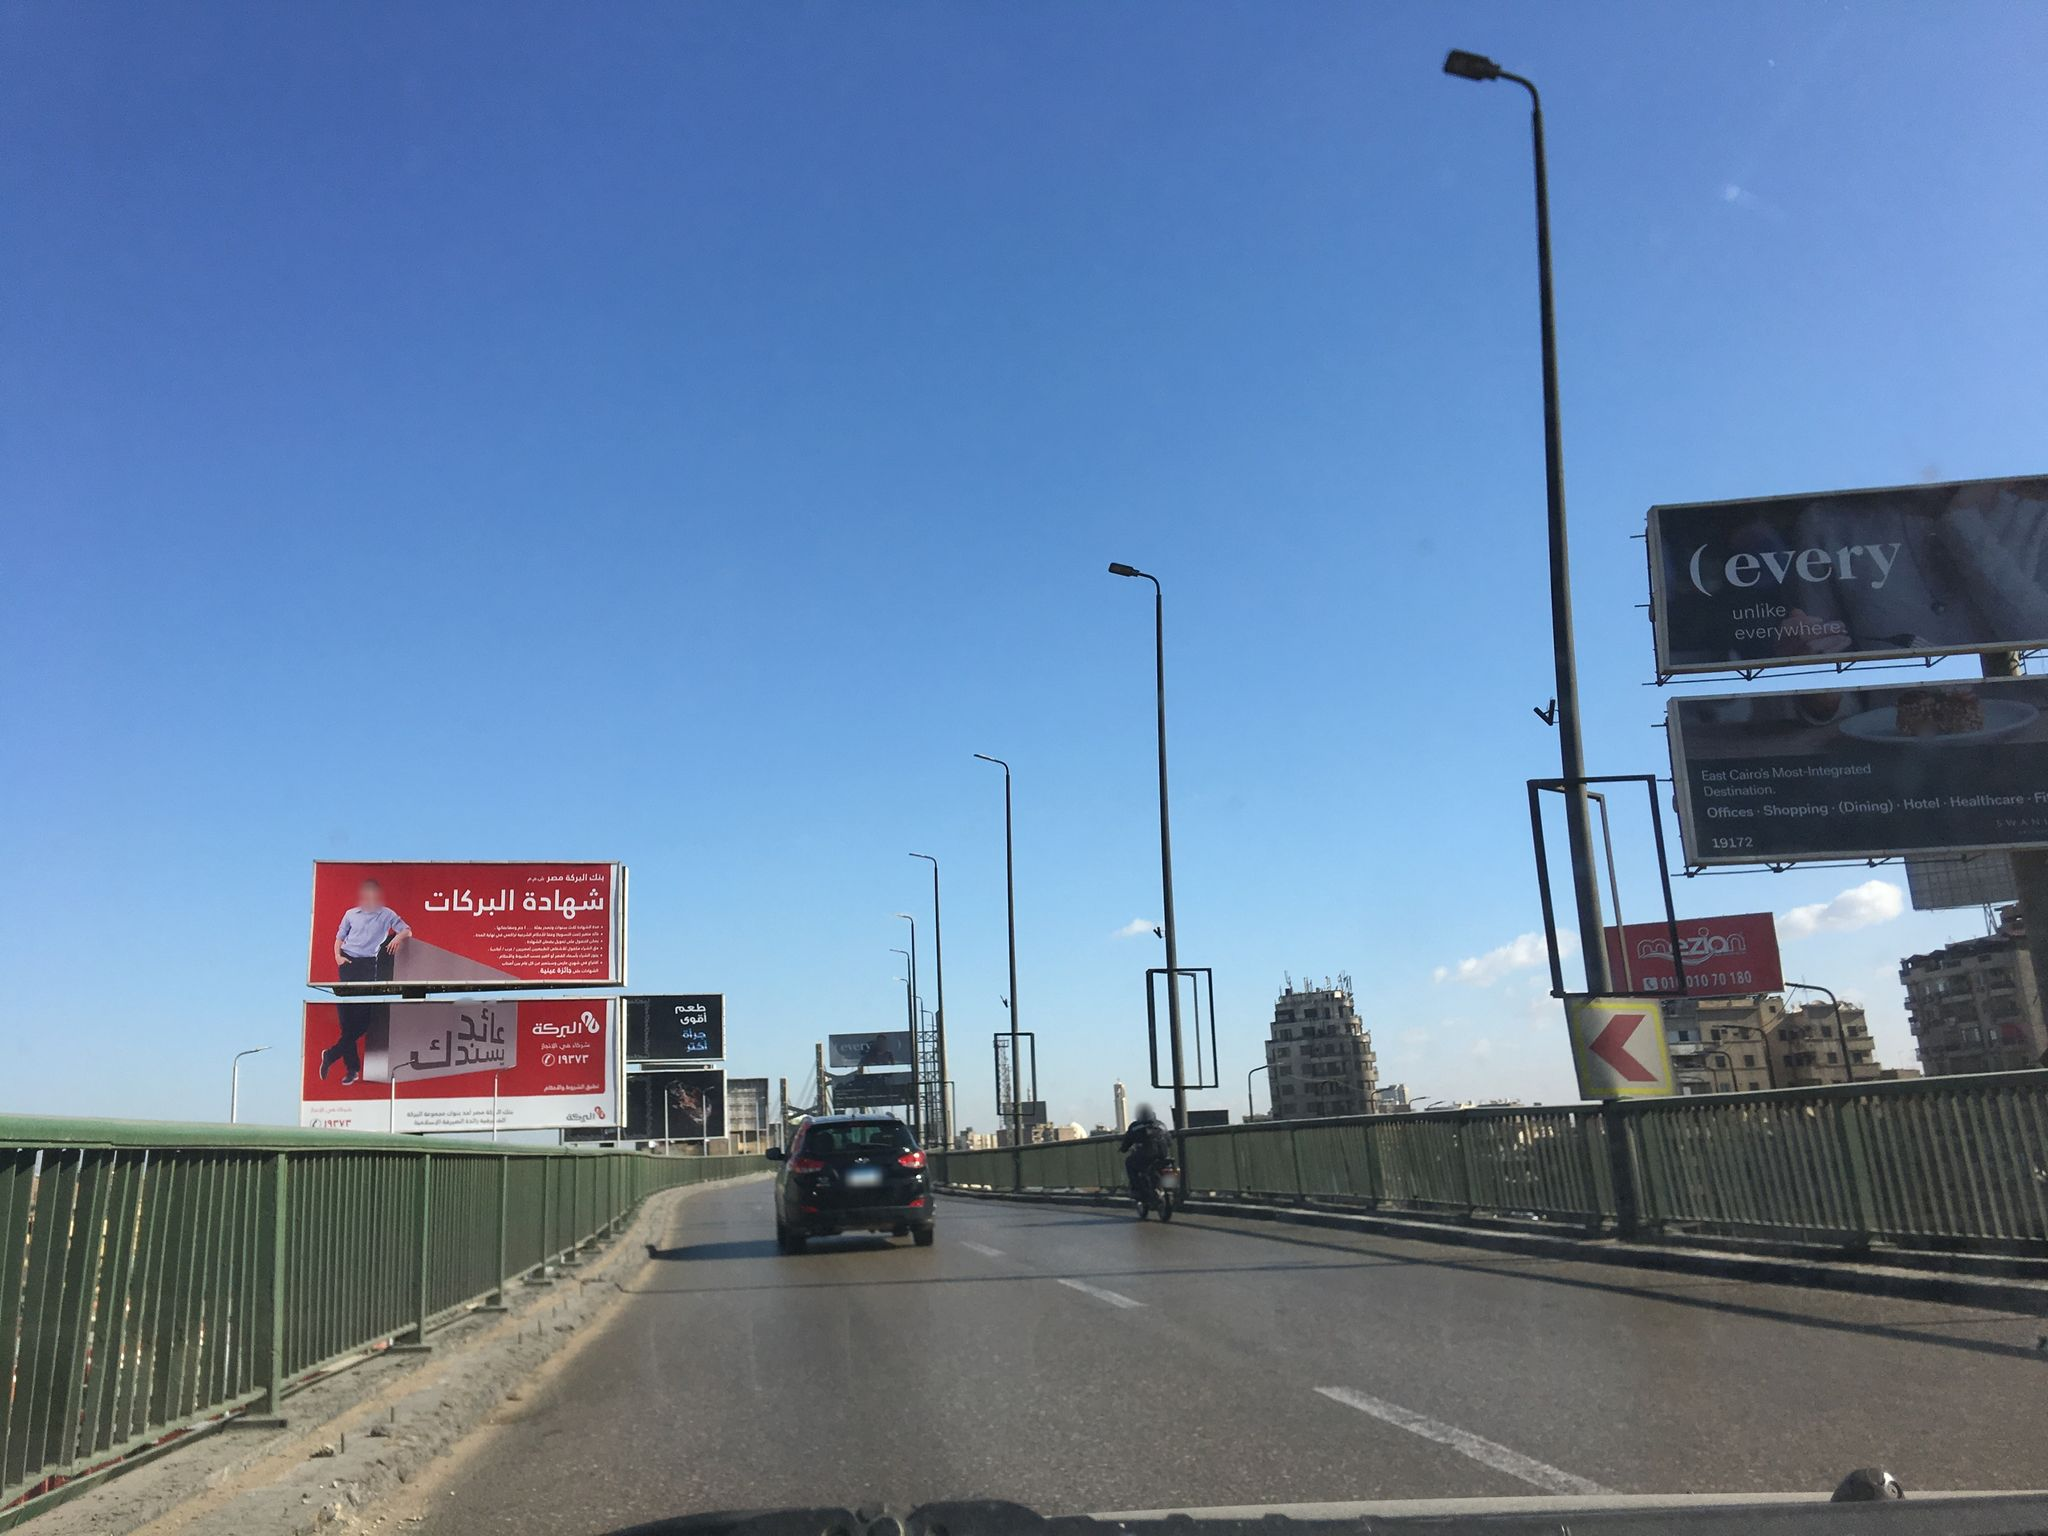car: (766, 1112, 939, 1246)
motorcycle: (1116, 1142, 1184, 1220)
